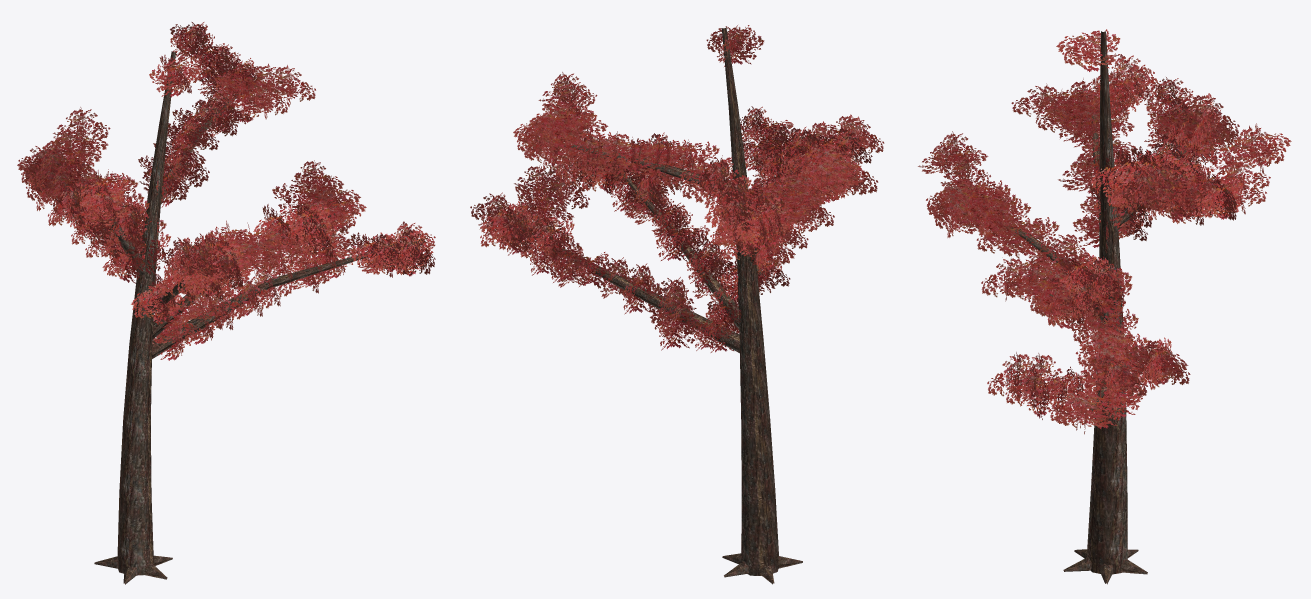
The model's file is tree_3d_04_red_lod1.glb.
3 views of the same model, side by side, from view 1: azimuth 30°, elevation 25°; view 2: azimuth 150°, elevation 25°; view 3: azimuth 270°, elevation 25° (orthographic). The views are drawn at different scales.
Visible parts, largest first — view 1: foliage_cards, wood_geometry; view 2: foliage_cards, wood_geometry; view 3: foliage_cards, wood_geometry.
Part boxes in pixels (left/top/right/bottom): foliage_cards: left=17, top=22, right=435, bottom=360; wood_geometry: left=94, top=51, right=371, bottom=584; foliage_cards: left=470, top=25, right=884, bottom=352; wood_geometry: left=504, top=27, right=829, bottom=584; foliage_cards: left=918, top=29, right=1291, bottom=434; wood_geometry: left=954, top=31, right=1216, bottom=584.
Size of the model in its own units: 9.37 by 11.58 by 7.14.
2 materials, 2 textured.
